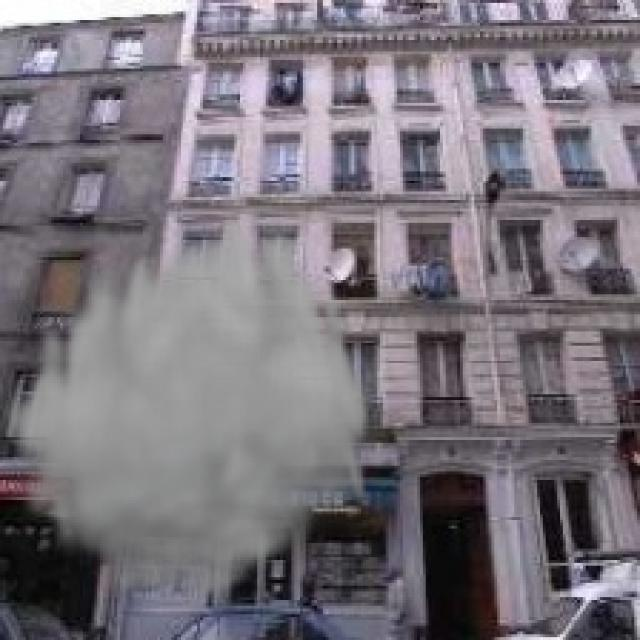Smoke: (0, 191, 375, 609)
